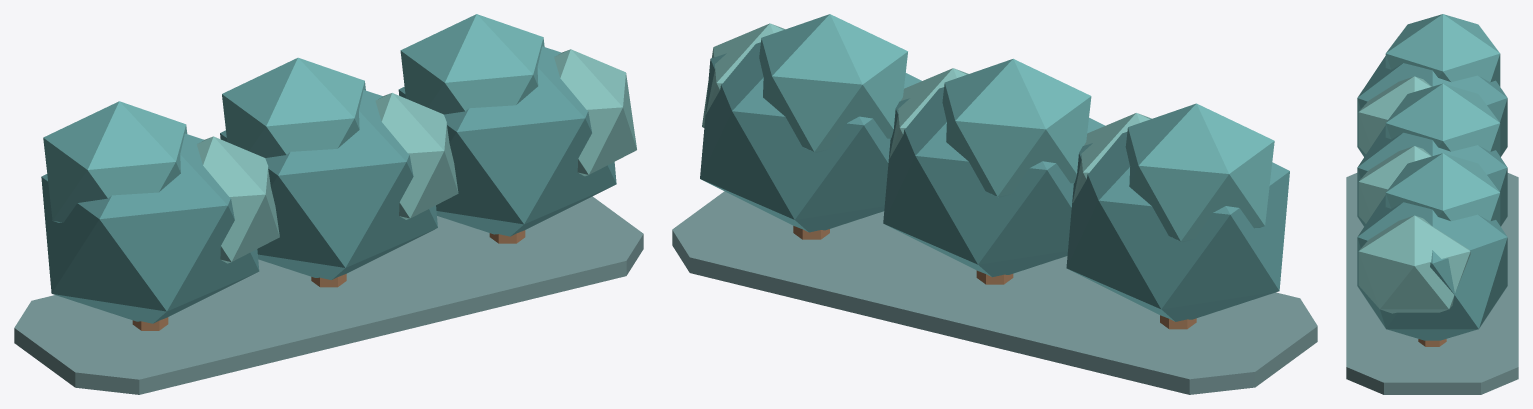
The picture shows the model from 3 angles, left to right: view 1: azimuth 30°, elevation 25°; view 2: azimuth 150°, elevation 25°; view 3: azimuth 270°, elevation 25°; orthographic projection. The views are drawn at different scales.
Visible parts, largest first — view 1: campus_hedge; view 2: campus_hedge; view 3: campus_hedge.
Boxes of the visible parts, x1,y1,x2,y2 form: campus_hedge: (14,14,643,394); campus_hedge: (672,14,1317,394); campus_hedge: (1346,14,1518,394).
Size of the model in its own units: 3.51 by 1.41 by 1.15.
1 material, 1 textured.
